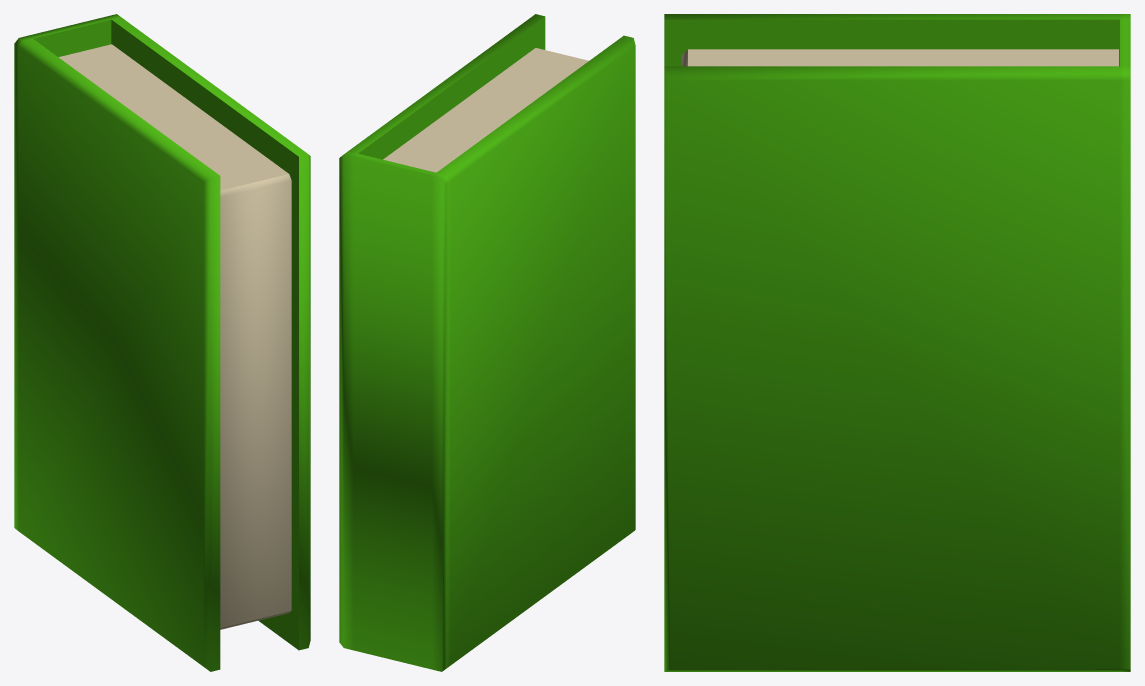
Rendered from BookClosed.fbx.
3 views of the same model, side by side, from view 1: azimuth 30°, elevation 25°; view 2: azimuth 150°, elevation 25°; view 3: azimuth 270°, elevation 25° (orthographic). The views are drawn at different scales.
Visible parts, largest first — view 1: BookClosed; view 2: BookClosed; view 3: BookClosed.
Part boxes in pixels (bbox=[...]): BookClosed: bbox=[14, 14, 310, 671]; BookClosed: bbox=[339, 14, 635, 671]; BookClosed: bbox=[664, 14, 1130, 671].
Bounding box in the file's own units: 6.1 × 26.93 × 18.97.
